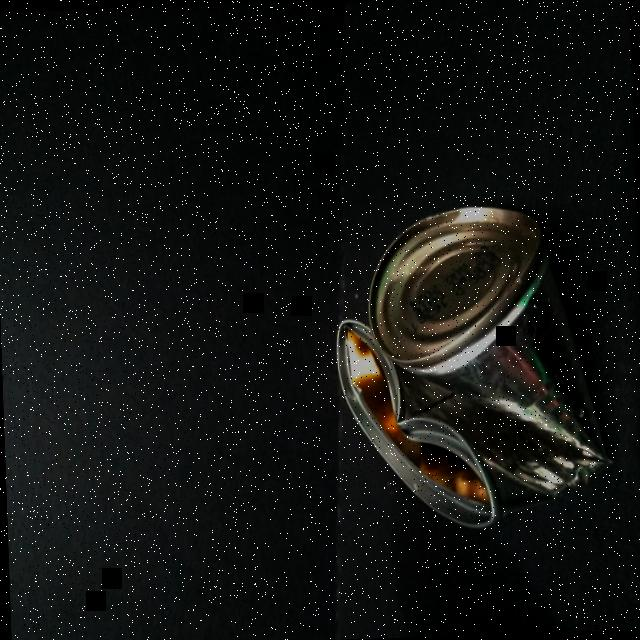can: (324, 193, 614, 535)
